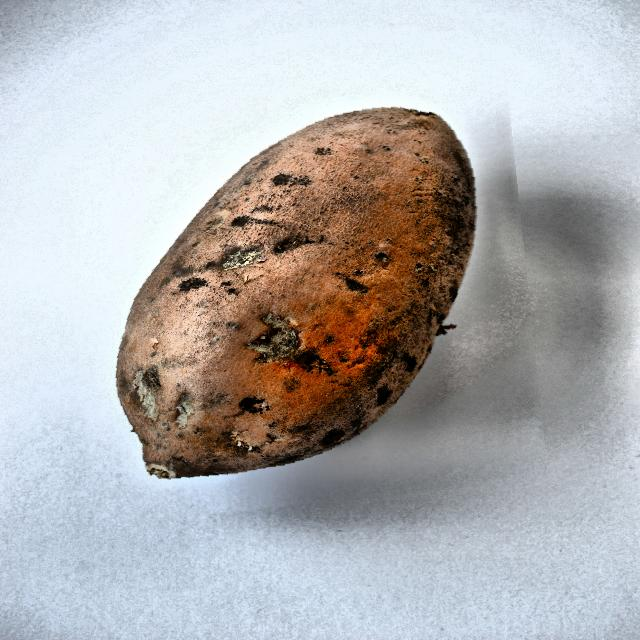potato: (62, 68, 538, 515)
